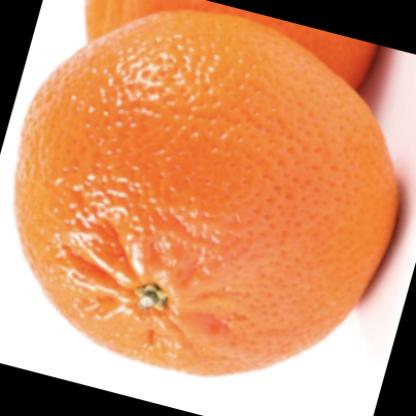fresh: (18, 10, 399, 376)
